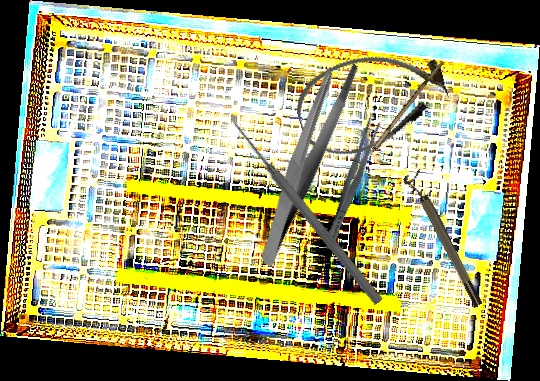Cannula: (287, 36, 457, 167)
Dressing Forceps: (211, 52, 400, 269), (319, 116, 384, 252)
Fixation Ring: (401, 168, 486, 312)
Pusher: (228, 118, 386, 307)
Surgical Spoon: (346, 58, 445, 185)
